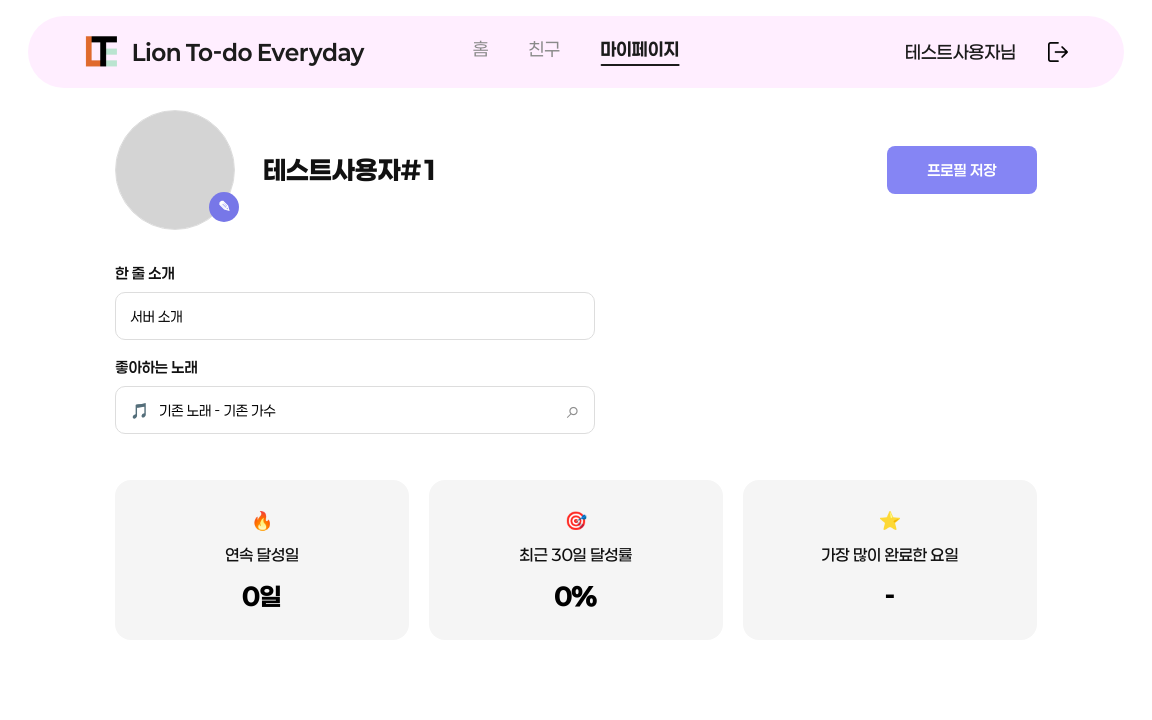
검색어만 입력하고 저장하면 곡이 저장된 것처럼 안내하지 않는다
Expected: the field showing "서버 소개" is shown, [115,292,595,340]
Step 1. Replace the text in the field labelled "좋아하는 노래" with "선택하지 않은 검색어" → (362, 410), box [157,400,567,420]
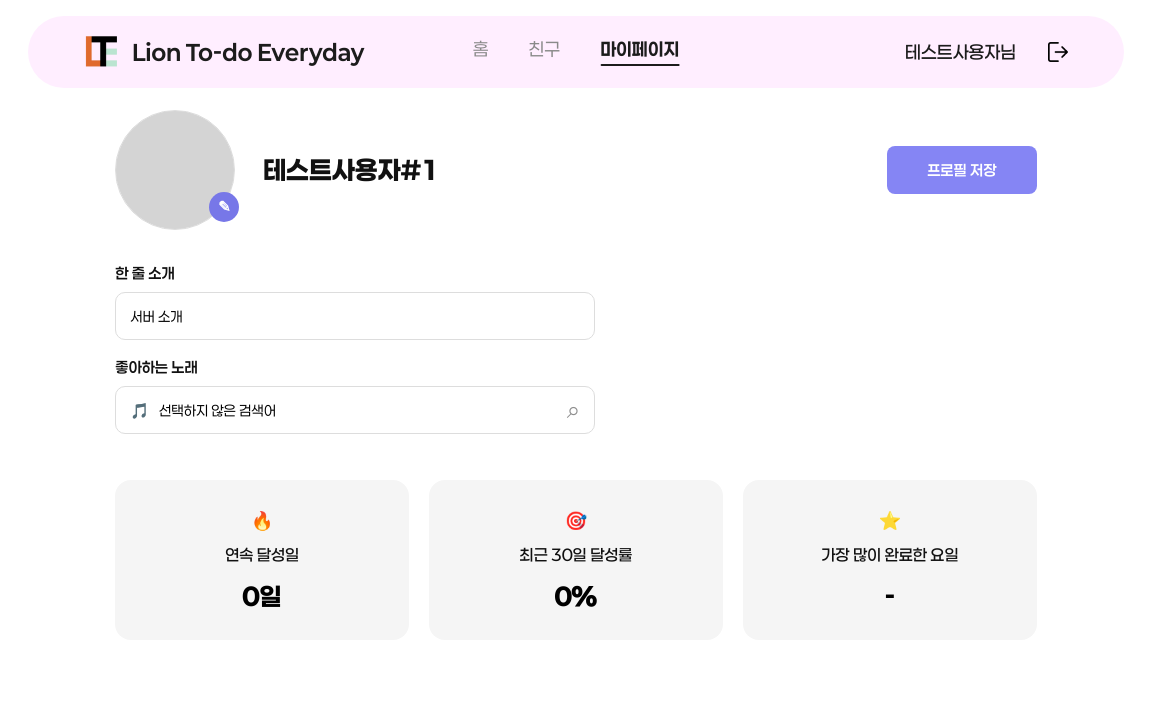
Step 2. Click the button "프로필 저장" → (962, 170), box [887,146,1037,194]
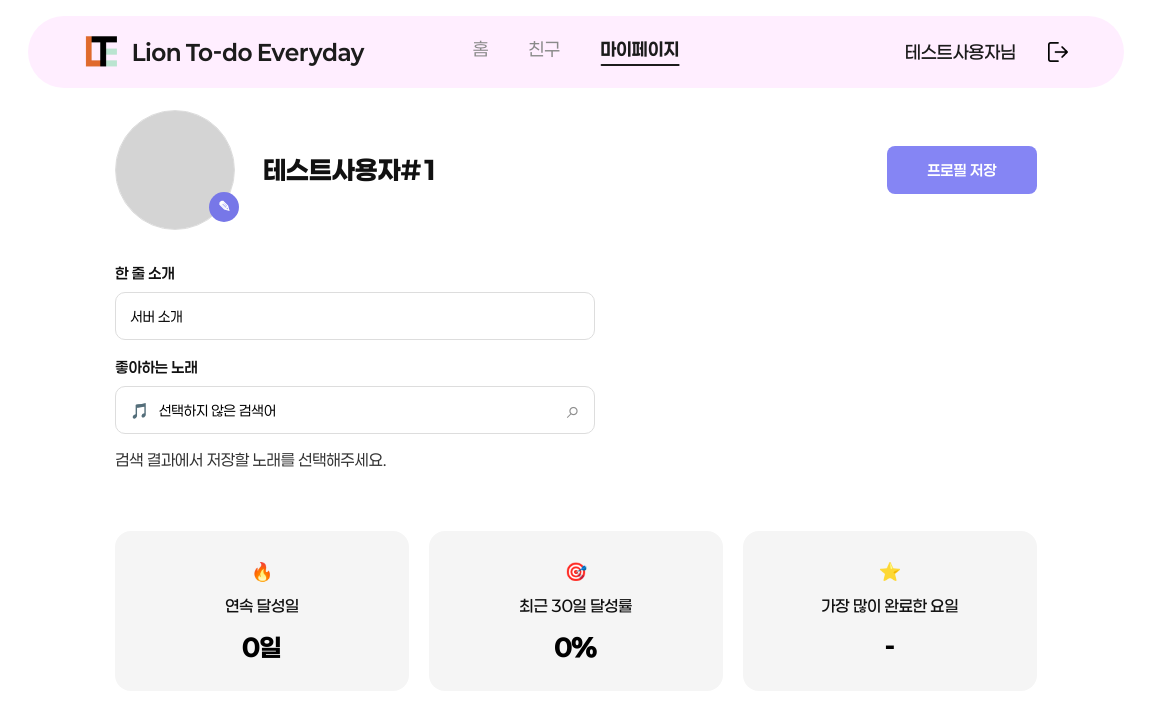
Expected: the message reads "검색 결과에서 저장할 노래를 선택해주세요.", [115,450,386,469]
